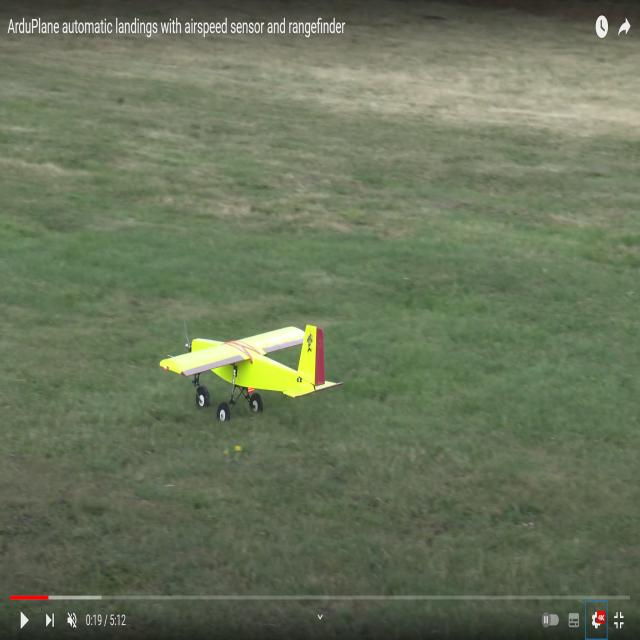iha: (167, 355, 328, 383)
